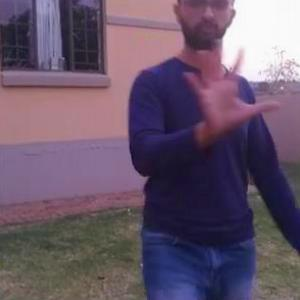follow_hand: (180, 34, 282, 136)
